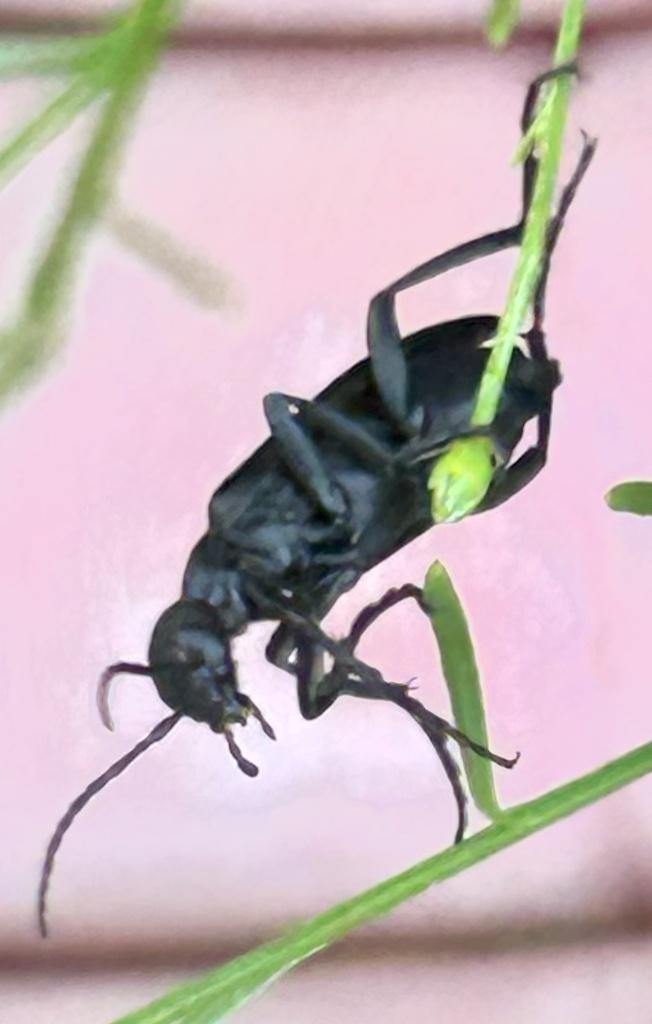blister_beetle: (0, 0, 652, 1018)
